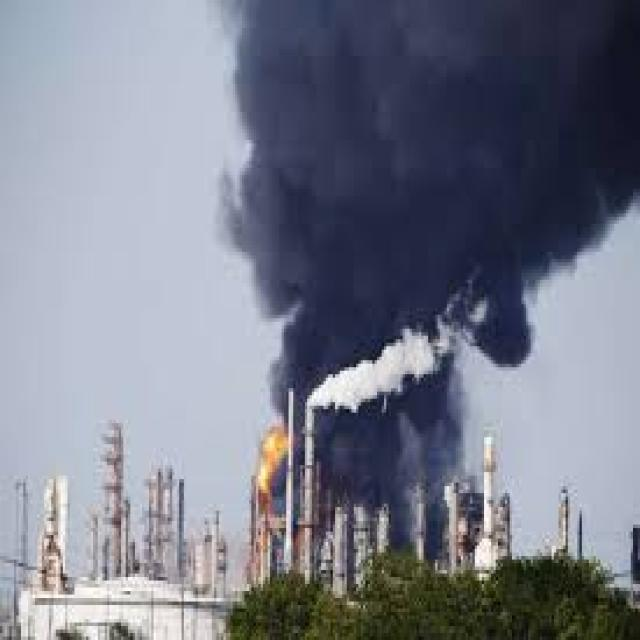Smoke: (211, 0, 640, 559)
